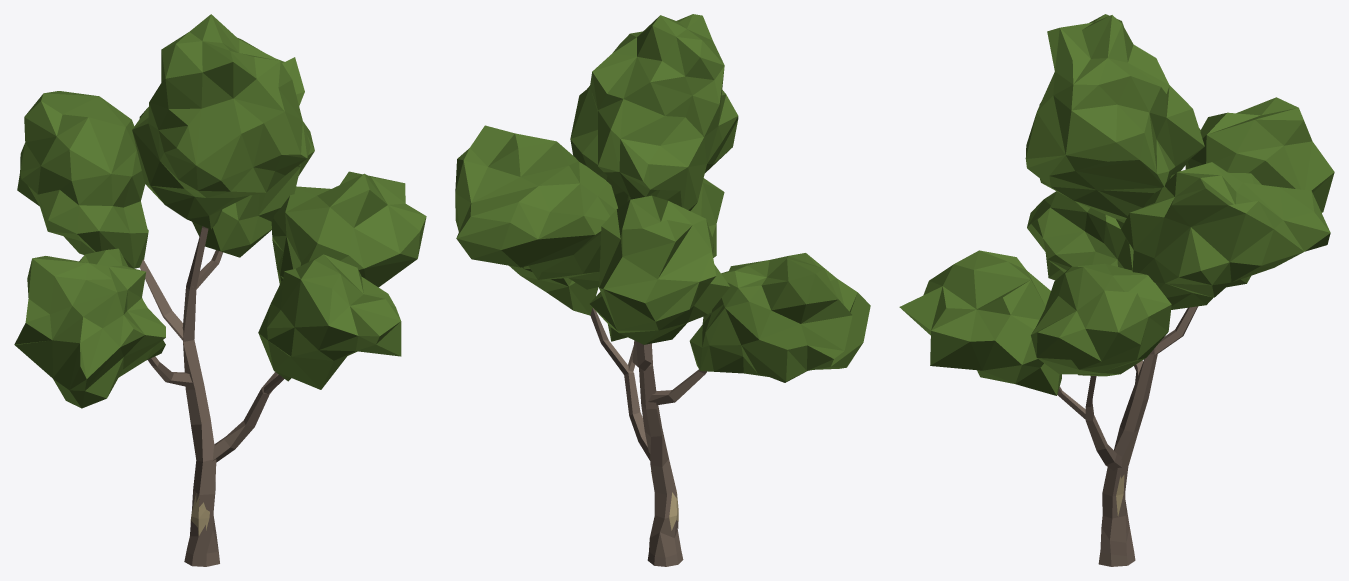
Rendered from SM_RF_Tree_02.fbx.
The picture shows the model from 3 angles, left to right: view 1: azimuth 30°, elevation 25°; view 2: azimuth 150°, elevation 25°; view 3: azimuth 270°, elevation 25°; orthographic projection.
Parts seen in each view (by area): view 1: SM_RF_Tree_02; view 2: SM_RF_Tree_02; view 3: SM_RF_Tree_02.
Boxes of the visible parts, x1=… form: SM_RF_Tree_02: x1=14, y1=14, x2=426, y2=566; SM_RF_Tree_02: x1=455, y1=14, x2=870, y2=566; SM_RF_Tree_02: x1=899, y1=14, x2=1334, y2=566.
Bounding box in the file's own units: 695 × 932 × 670.
